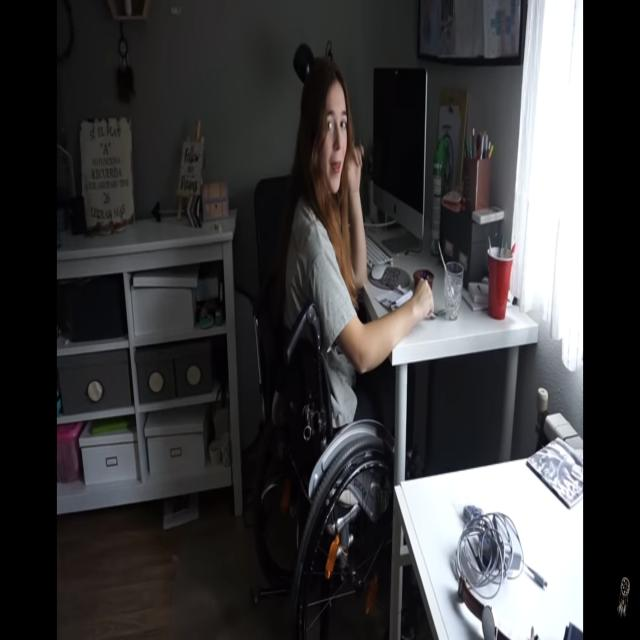wheelchairs: (234, 273, 397, 640)
